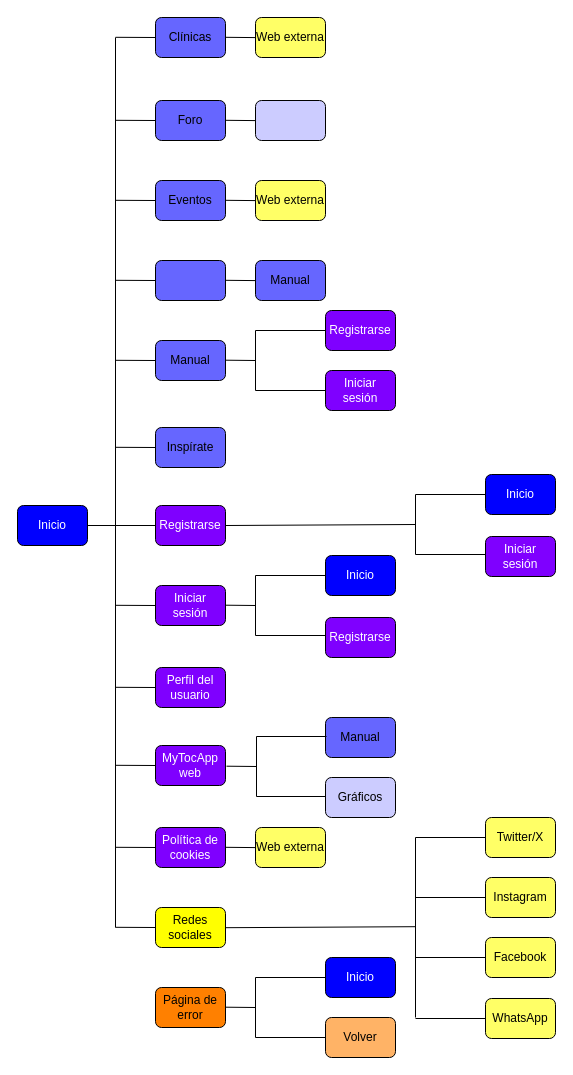
The diagram is 573 pixels wide and 1075 high, and some of its shapes have lost their labels. Each missing label, with the centre of its shape:
"Contacto" goes at (190,280).
"Tema/hilo" goes at (290,120).
